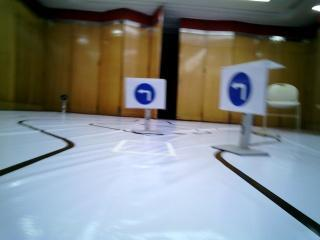left: (221, 64, 265, 108), (136, 78, 165, 108)
